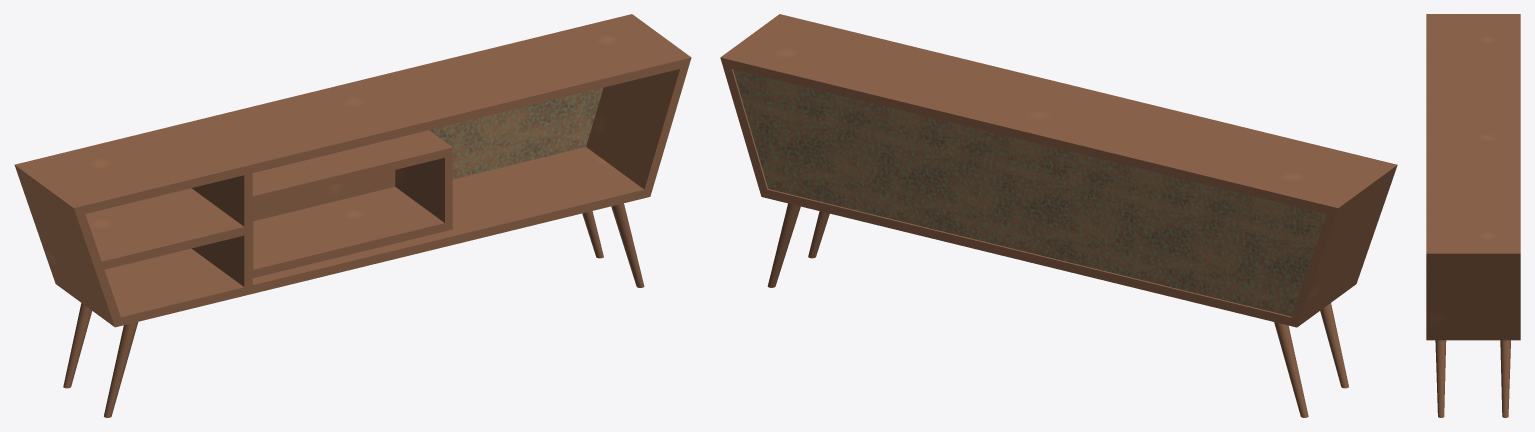
3 renders of one model, left to right at view 1: azimuth 30°, elevation 25°; view 2: azimuth 150°, elevation 25°; view 3: azimuth 270°, elevation 25°, orthographic. The views are drawn at different scales.
Visible parts, largest first — view 1: body_low, box_low, back_low, shelf_low, divider_low, leg_low; view 2: back_low, body_low, leg_low; view 3: body_low, leg_low.
Boxes of the visible parts, x1=… form: body_low: x1=14, y1=14, x2=691, y2=327; box_low: x1=252, y1=130, x2=452, y2=277; back_low: x1=429, y1=87, x2=603, y2=179; shelf_low: x1=85, y1=188, x2=244, y2=269; divider_low: x1=191, y1=173, x2=252, y2=287; leg_low: x1=63, y1=203, x2=644, y2=417; back_low: x1=733, y1=69, x2=1326, y2=316; body_low: x1=720, y1=14, x2=1397, y2=327; leg_low: x1=767, y1=203, x2=1348, y2=417; body_low: x1=1426, y1=14, x2=1520, y2=340; leg_low: x1=1435, y1=340, x2=1510, y2=417.
Size of the model in its own units: 2.34 by 0.8174 by 0.3906.
Materials: 1 (1 with a texture image).
